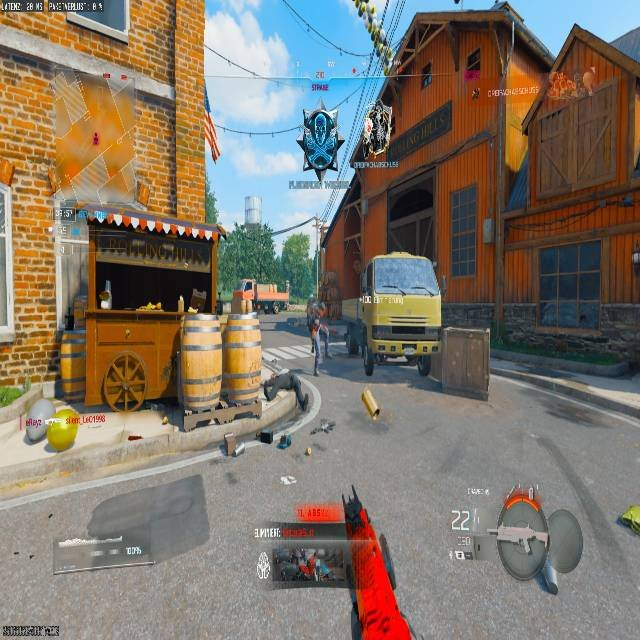player: (296, 107, 344, 187), (308, 311, 330, 371)
